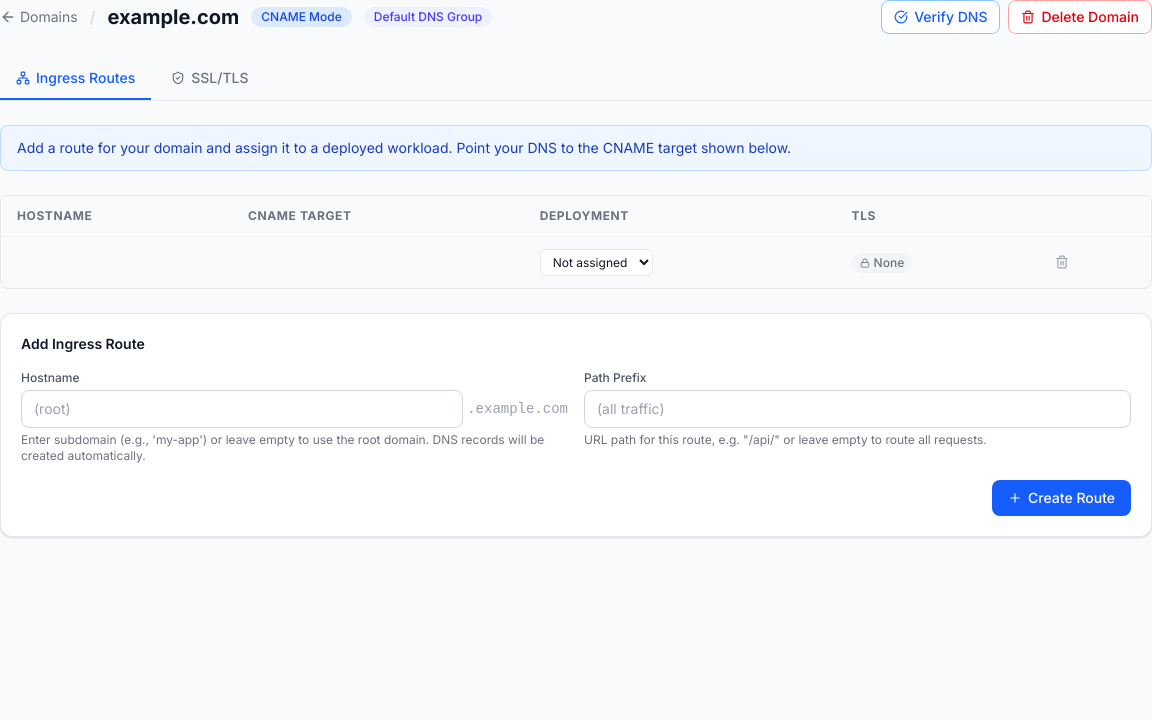
it: Client DomainDetail page › delete modal renders the cascade preview with DNS records, mailboxes, aliases, ingress routes and webmail hostname
Check: the heading with test id "domain-name-heading" reads "example.com", box 108,5 -> 239,29
Click the button with test id "delete-domain-button" at (1080, 17), box 1008,0 -> 1151,34
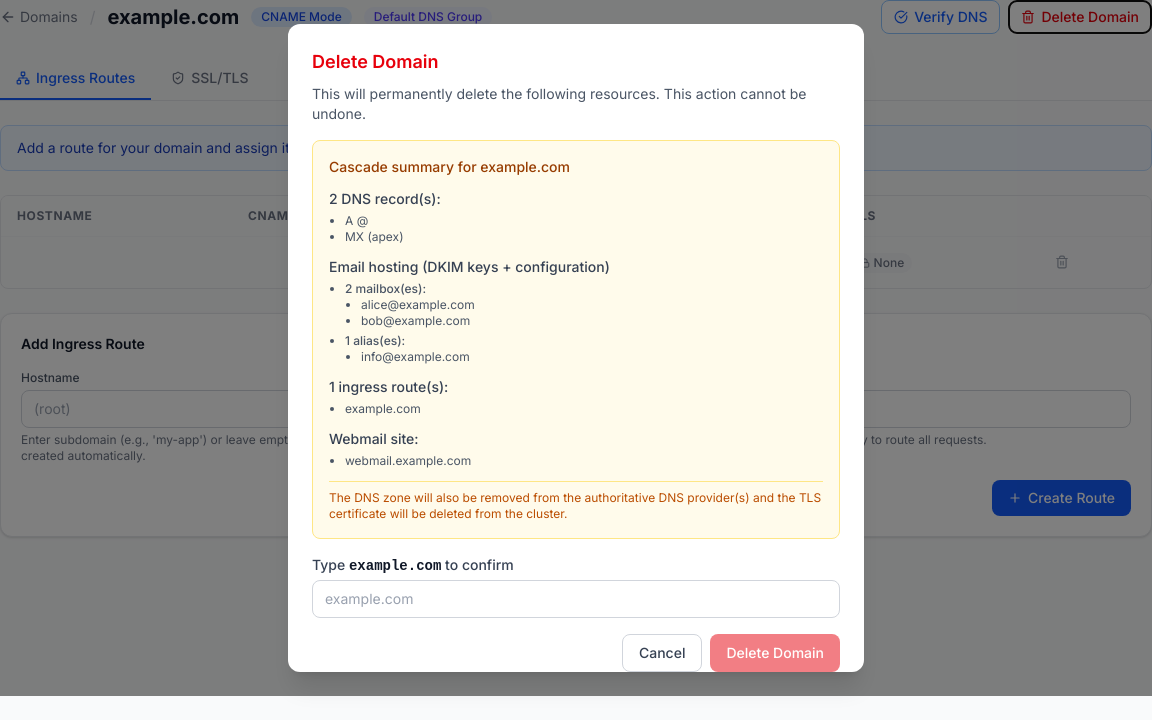
Check: the element with test id "delete-preview-list" is shown, box 312,140 -> 840,539
Check: the element with test id "delete-preview-dns" is shown, box 329,190 -> 441,244
Check: the element with test id "delete-preview-email" is shown, box 329,258 -> 610,364
